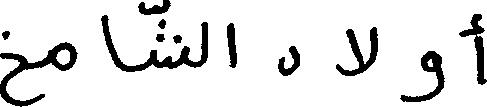X: (0, 26, 43, 106), (403, 46, 442, 106), (154, 0, 184, 73), (338, 22, 375, 80), (462, 9, 486, 89), (102, 10, 119, 72), (50, 37, 73, 75), (279, 41, 298, 80), (228, 18, 235, 72), (202, 17, 206, 69)
